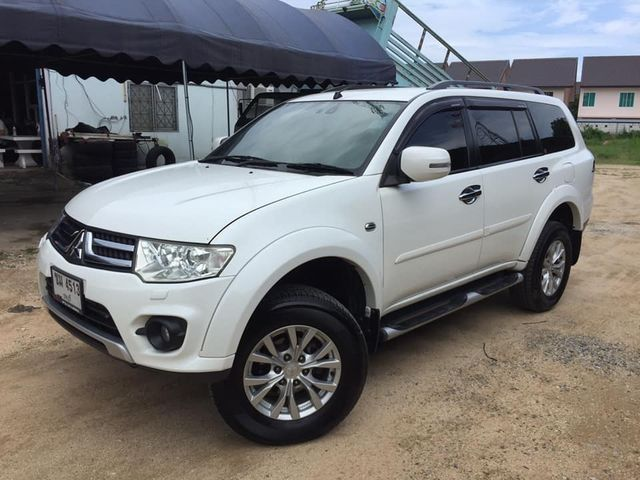pickup: (35, 80, 599, 443)
